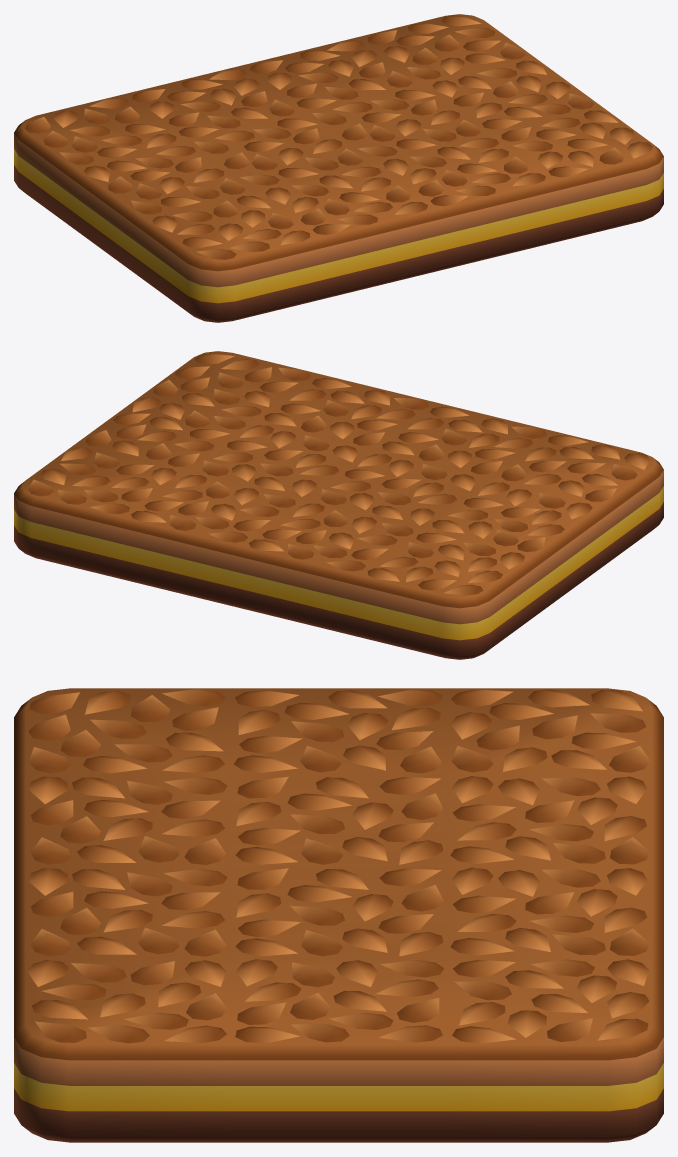
File: m_Bienenstich03.fbx
The picture shows the model from 3 angles, top to bottom: view 1: azimuth 30°, elevation 25°; view 2: azimuth 150°, elevation 25°; view 3: azimuth 270°, elevation 25°; orthographic projection. The views are drawn at different scales.
Visible parts, largest first — view 1: m_Bienenstich03; view 2: m_Bienenstich03; view 3: m_Bienenstich03.
Part boxes in pixels (x1,y1,x2,y2): m_Bienenstich03: (14, 14, 663, 322); m_Bienenstich03: (14, 351, 663, 659); m_Bienenstich03: (14, 688, 663, 1142).
Bounding box in the file's own units: 40 × 5.3 × 30.
